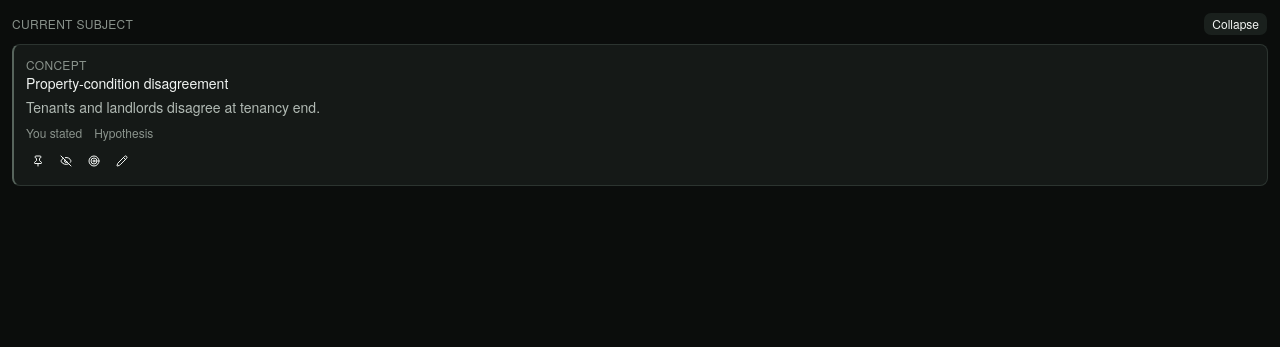
Test: editing the user's own meaning › keeps the user's text and explains the problem when saving fails
This screenshot has width=1280, height=347.
Step 1. Click the button named "Edit Property-condition disagreement" → [122, 161], box [110,149,134,173]
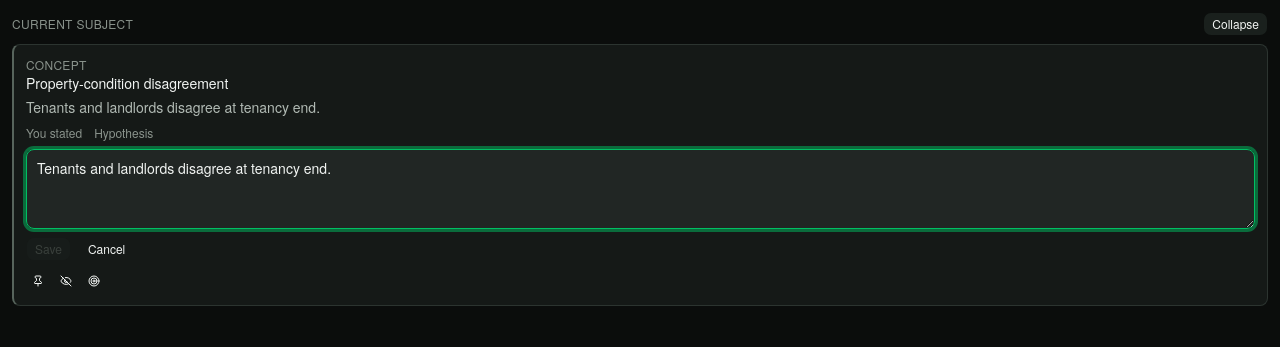
Step 2. Replace the text in the text box named "Edit Property-condition disagreement" with "Revised wording" → [640, 189], box [26,149,1255,229]
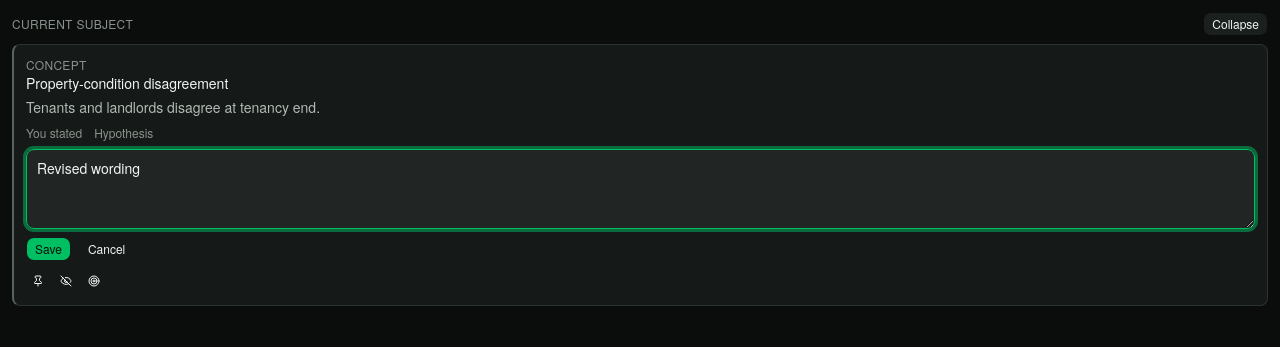
Step 3. Click the button "Save" → [48, 249], box [26,237,71,261]
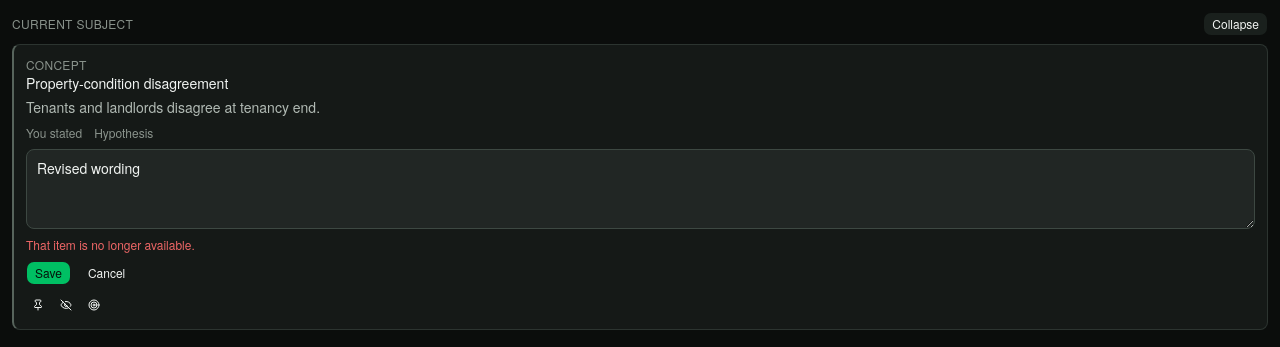
expect the message reads "That item is no longer available.": met, box [26,236,195,253]
